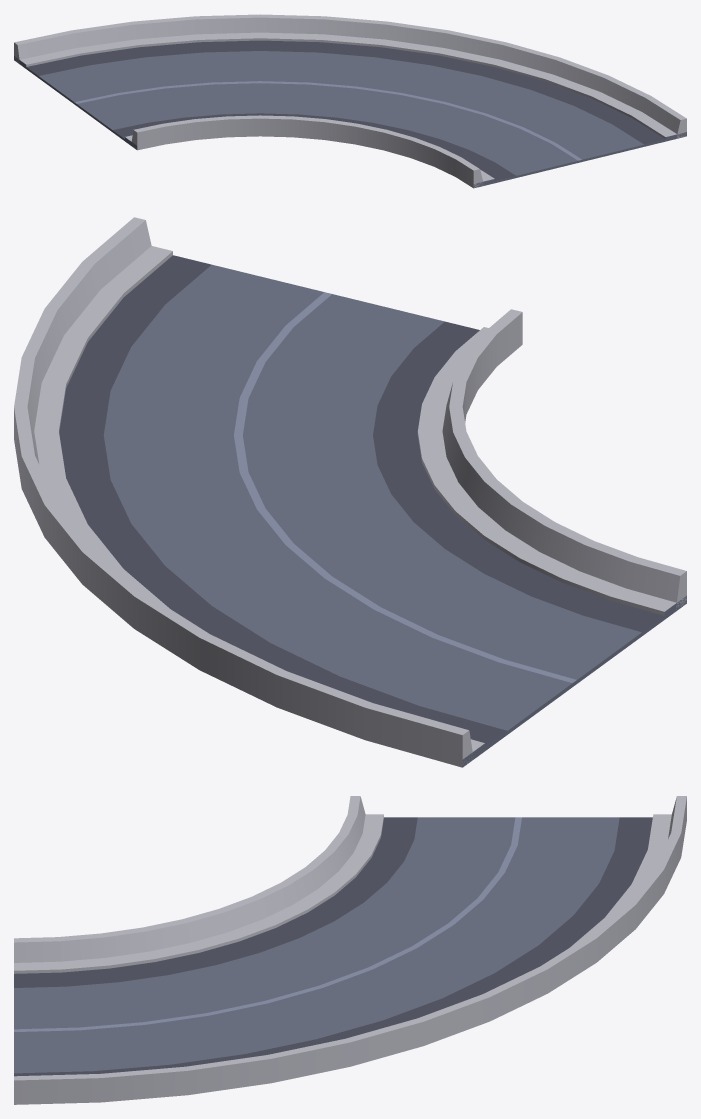
The model's file is road_curved.obj.
3 renders of one model, top to bottom at view 1: azimuth 30°, elevation 25°; view 2: azimuth 150°, elevation 25°; view 3: azimuth 270°, elevation 25°, orthographic. The views are drawn at different scales.
Visible parts, largest first — view 1: road_curve, road_curveBarrier; view 2: road_curve, road_curveBarrier; view 3: road_curve, road_curveBarrier.
Boxes of the visible parts, x1,y1,x2,y2 form: road_curve: (14,32,686,188); road_curveBarrier: (14,14,686,188); road_curve: (14,246,686,767); road_curveBarrier: (14,217,686,767); road_curve: (14,814,686,1104); road_curveBarrier: (14,796,686,1104).
Size of the model in its own units: 2 by 0.08 by 2.
